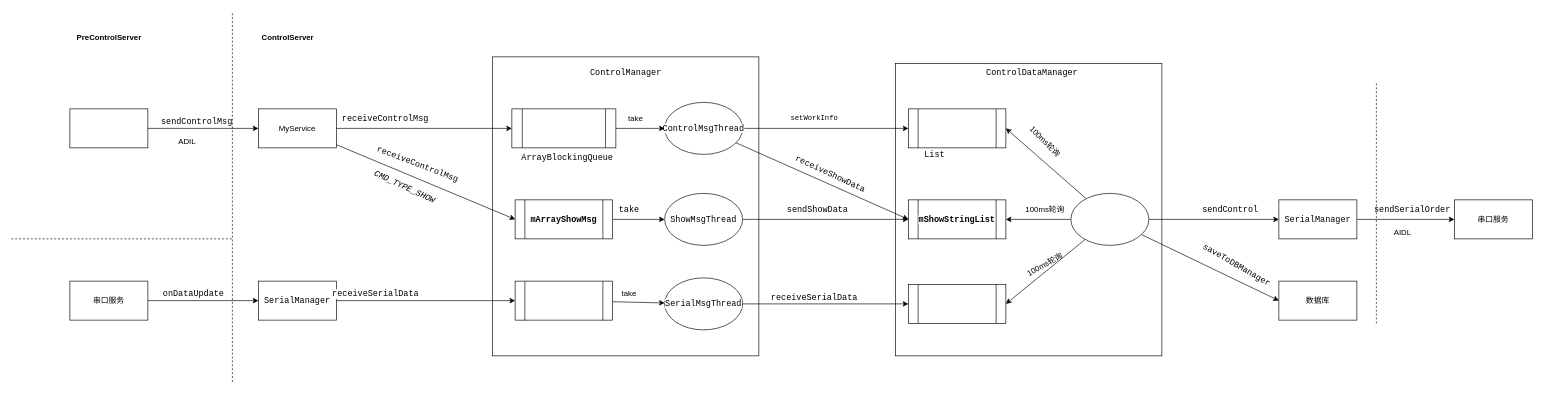
Some shapes in this 1544 by 394 pixel diagram are drawn without their labels. Here are the shapes that lost their labels. From the top down, the centre of each, then its label:
At pixel 108 128: "WorkManager".
At pixel 563 128: "mArrayControlMsg".
At pixel 957 128: "mWorkInfo".
At pixel 1109 219: "mainTask".
At pixel 563 300: "mArraySerialMsg".
At pixel 957 303: "mStringList".
